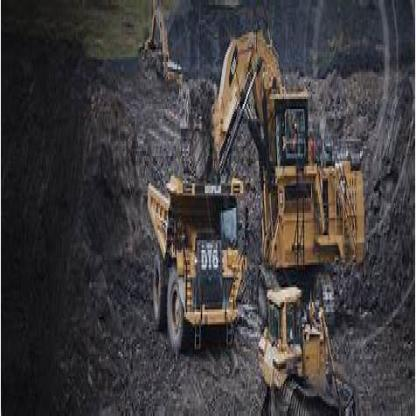dump_truck: (146, 156, 250, 366)
